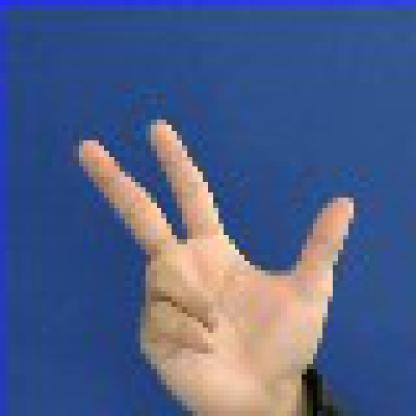eight: (41, 109, 384, 411)
